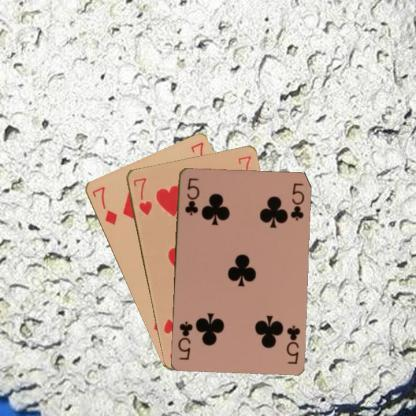5c: (283, 322, 301, 366), (182, 175, 200, 217)
7d: (89, 184, 118, 226)
7h: (130, 175, 154, 216)
